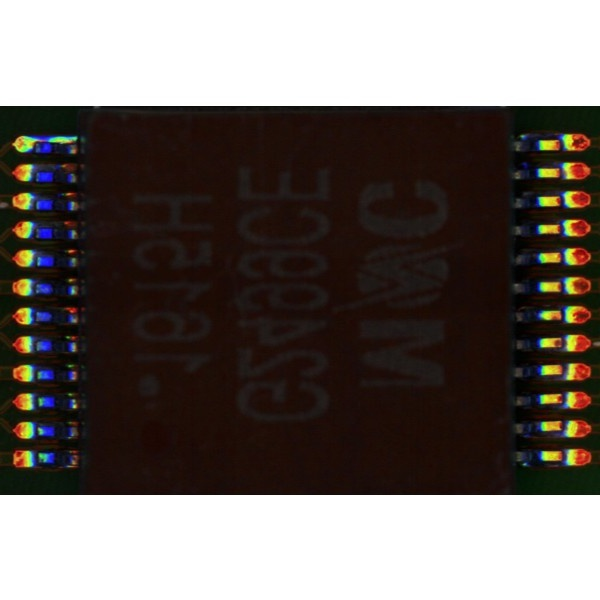Bad_qiaojiao: (31, 134, 76, 144)
